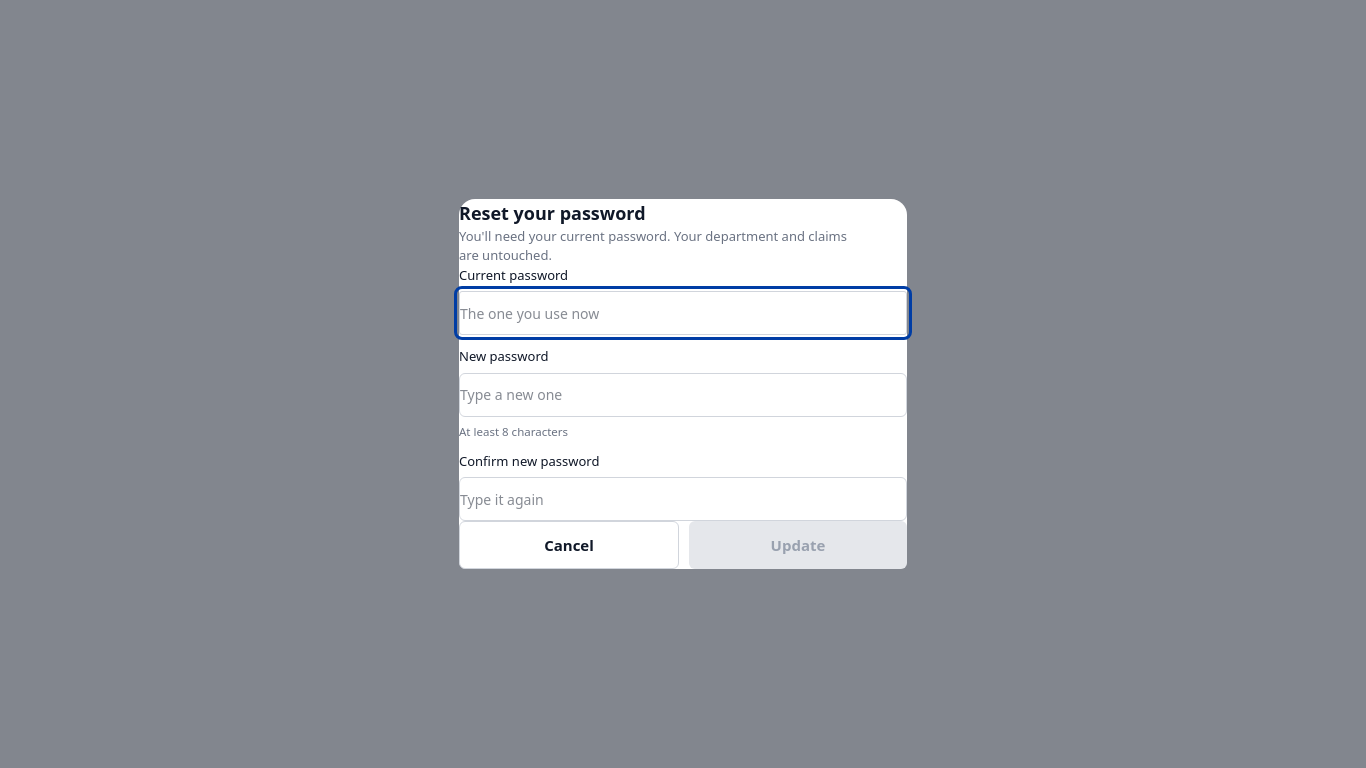
Test case: password sheet › disables the button while the change is in flight
The image size is (1366, 768).
Type "oldpassword" into the password field labelled "Current password".
click(683, 313); type("oldpassword")  # box [459,291,907,335]
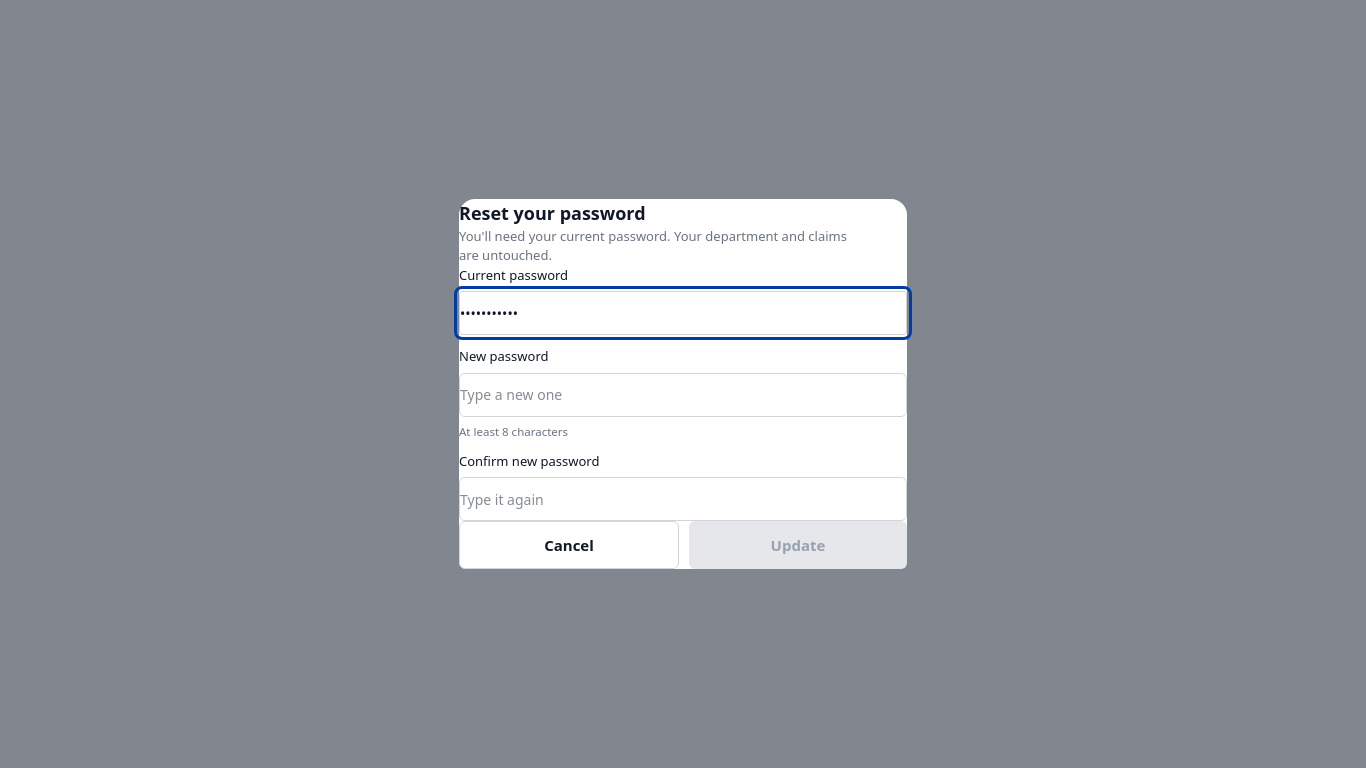
Type "longenough1" into the password field labelled "New password".
click(683, 395); type("longenough1")  # box [459,373,907,417]
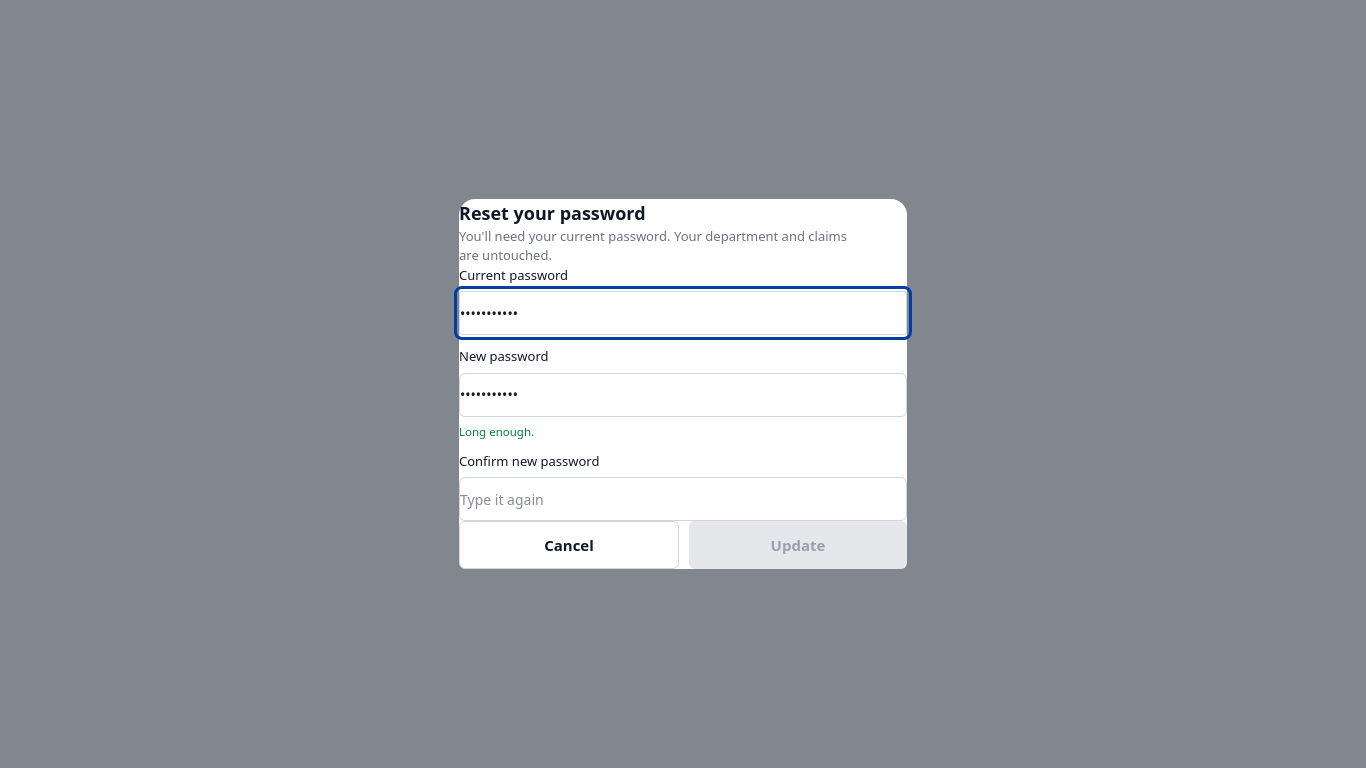
Type "longenough1" into the password field labelled "Confirm new password".
click(683, 499); type("longenough1")  # box [459,477,907,521]
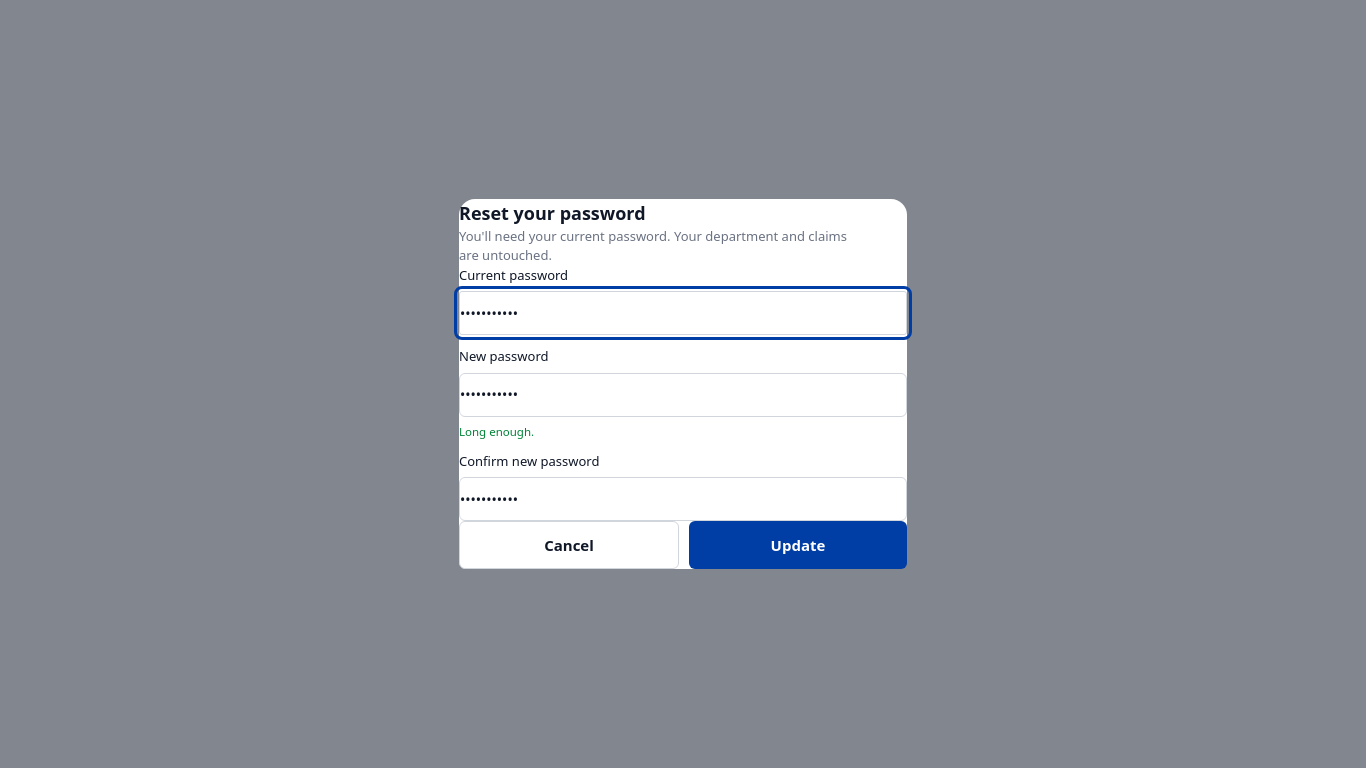
Click the button "Update".
click(798, 545)  # box [689,521,907,569]
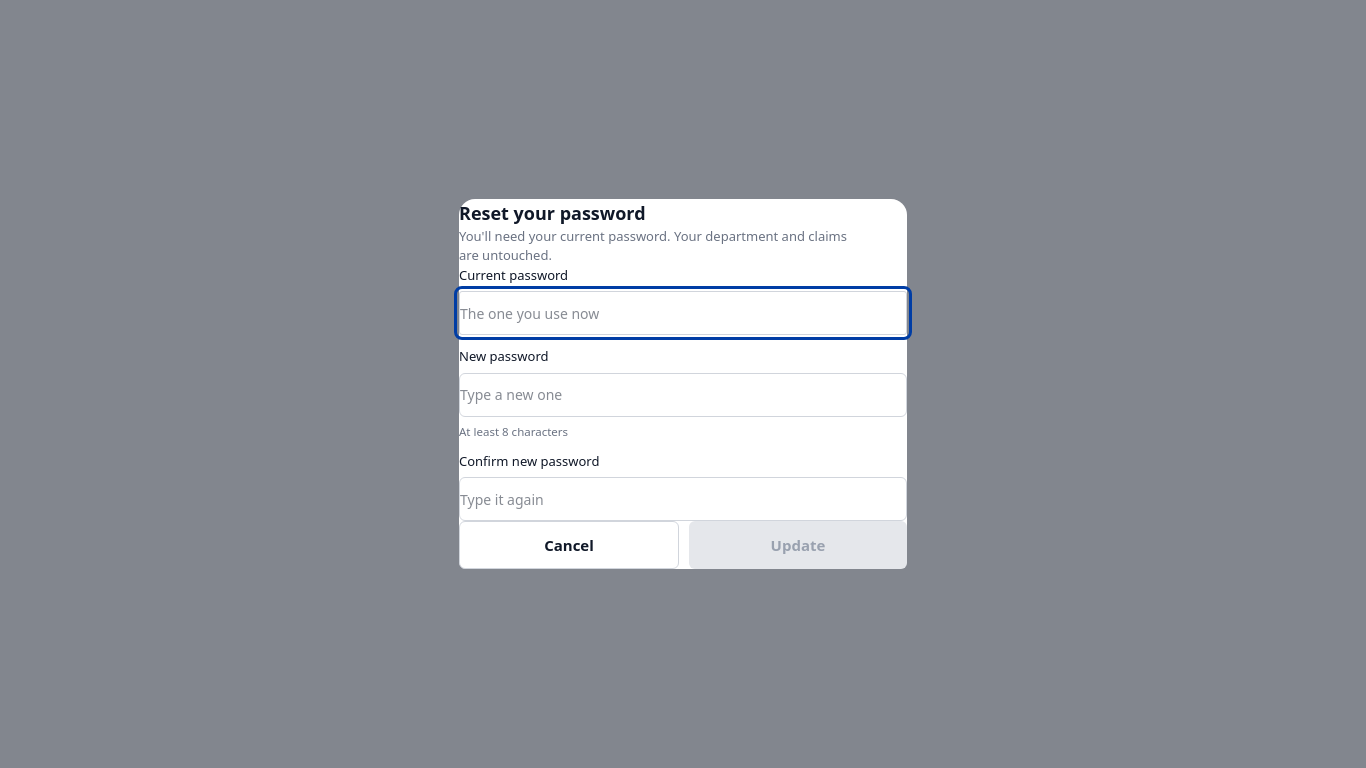
Now the button "Update" is disabled, box [689,521,907,569]
